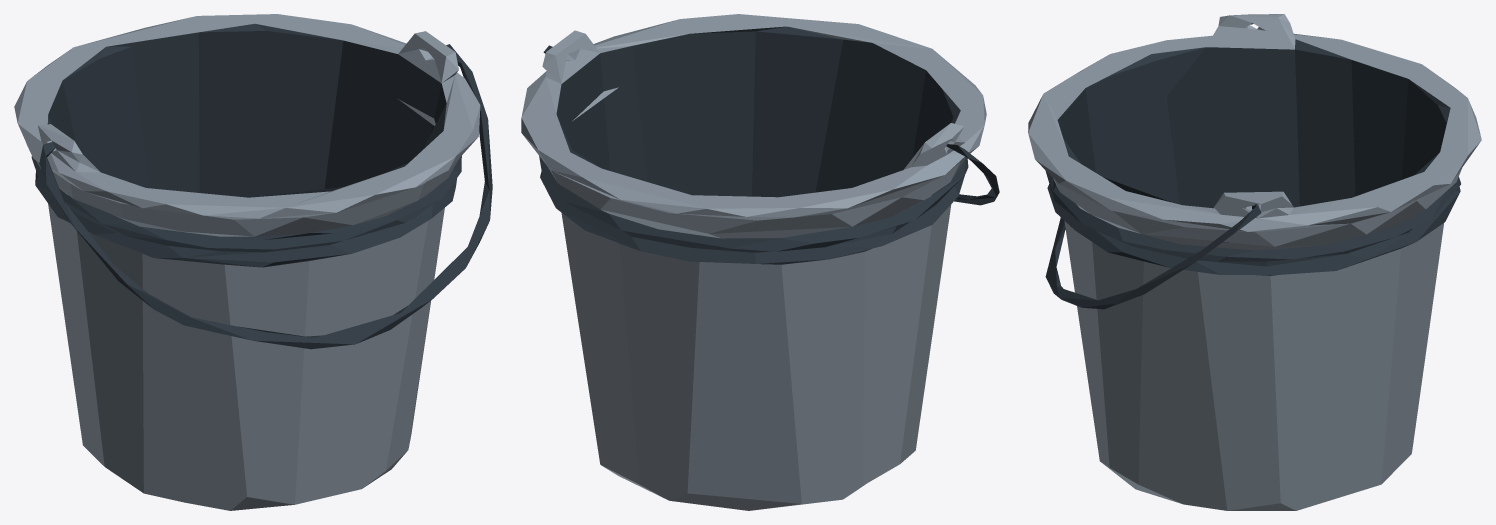
File: Bucket.fbx
The picture shows the model from 3 angles, left to right: view 1: azimuth 30°, elevation 25°; view 2: azimuth 150°, elevation 25°; view 3: azimuth 270°, elevation 25°; orthographic projection. The views are drawn at different scales.
Parts seen in each view (by area): view 1: BucketLowPoly; view 2: BucketLowPoly; view 3: BucketLowPoly.
Part boxes in pixels (bbox=[...]): BucketLowPoly: bbox=[14, 14, 492, 510]; BucketLowPoly: bbox=[521, 14, 999, 510]; BucketLowPoly: bbox=[1028, 14, 1481, 510].
Bounding box in the file's own units: 24.99 × 19.92 × 23.58.
